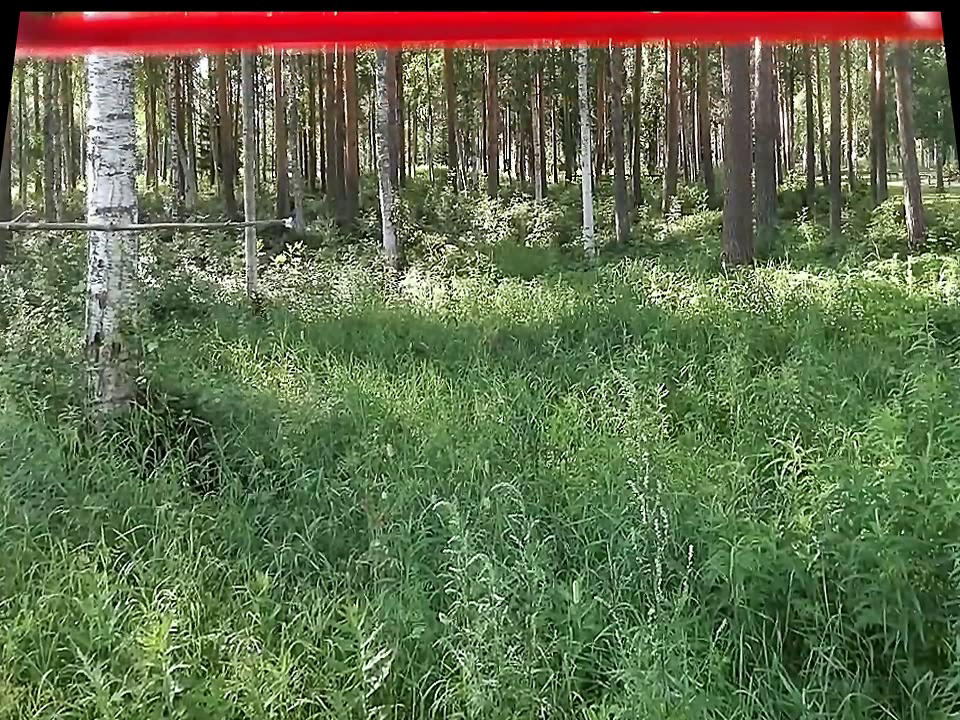branch: (3, 207, 278, 238)
